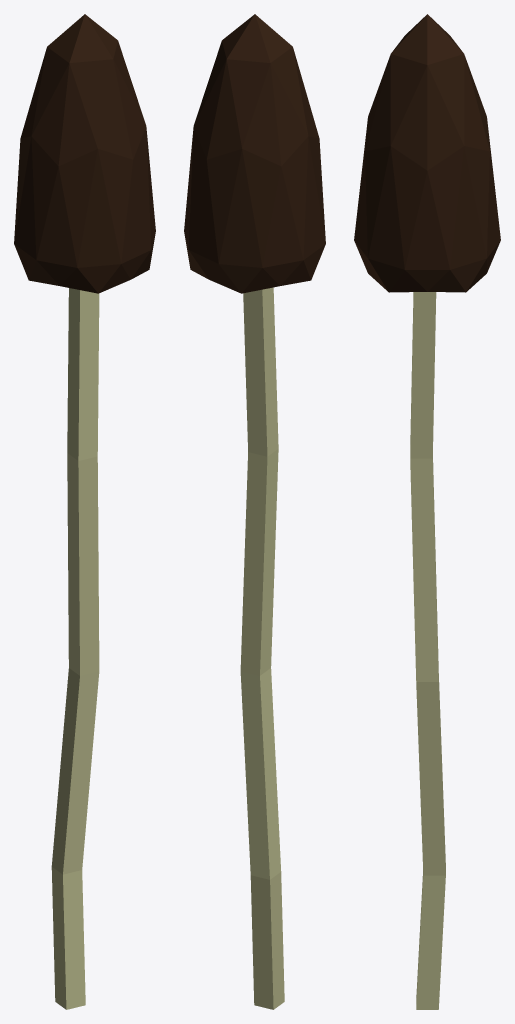
File: mushroom15.obj
3 views of the same model, side by side, from view 1: azimuth 30°, elevation 25°; view 2: azimuth 150°, elevation 25°; view 3: azimuth 270°, elevation 25° (orthographic).
Visible parts, largest first — view 1: Mushroom2_2_Cube; view 2: Mushroom2_2_Cube; view 3: Mushroom2_2_Cube.
Boxes of the visible parts, bbox=[...] form: Mushroom2_2_Cube: bbox=[14, 14, 155, 1009]; Mushroom2_2_Cube: bbox=[184, 14, 325, 1009]; Mushroom2_2_Cube: bbox=[354, 14, 500, 1009].
Size of the model in its own units: 0.0945 by 0.7449 by 0.0994.
